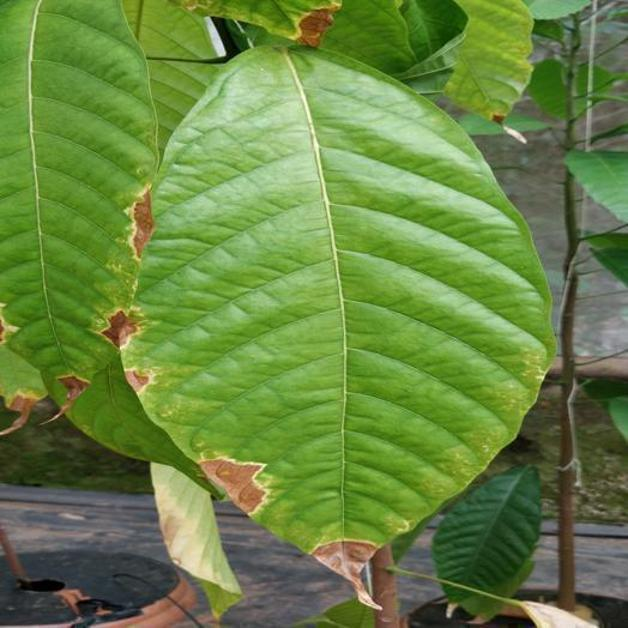Potassium: (122, 48, 552, 603), (0, 0, 158, 404)
